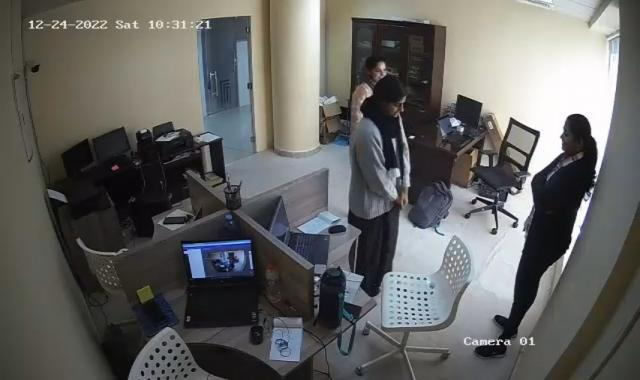no_hairnet: (373, 77, 411, 117), (558, 113, 593, 155), (360, 56, 388, 80)
